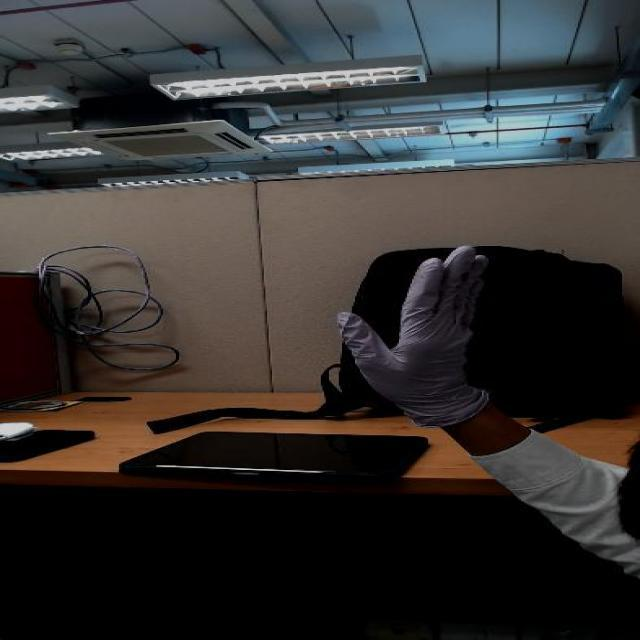with_gloves: (304, 240, 508, 382)
